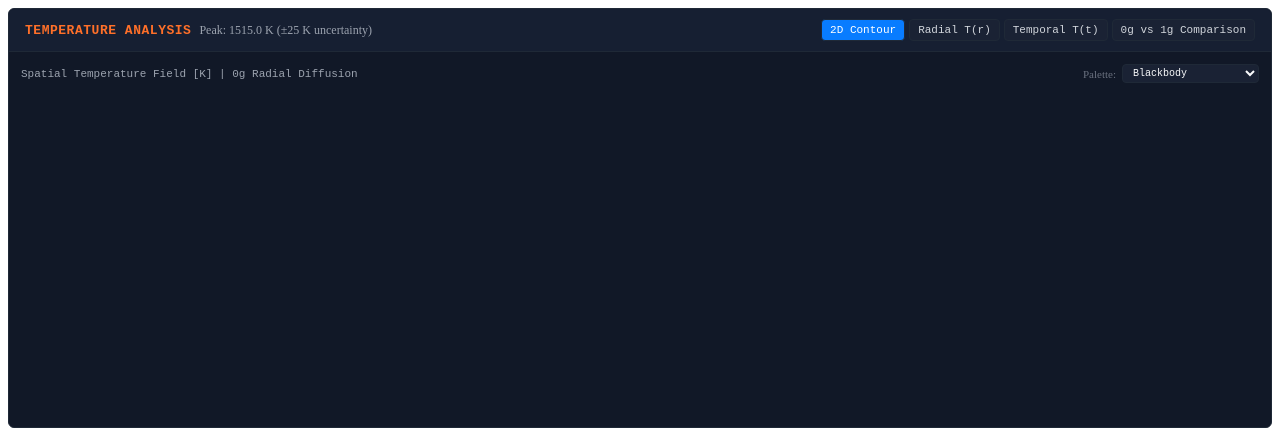
Test case: TemperatureDistributionChart Component › switches to 0g vs 1g Comparison tab and displays physics differences
This screenshot has width=1280, height=445.
What coordinates should you click on to do the following:
click the button "0g vs 1g Comparison"
I would click on:
 (1183, 30)
Its box is left=1112, top=19, right=1255, bottom=41.
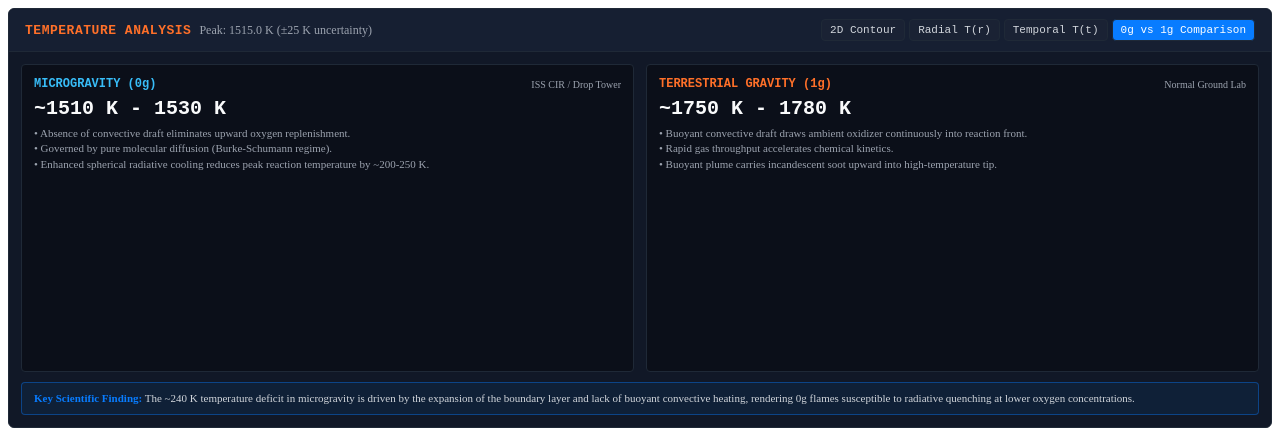
Result: the text "MICROGRAVITY (0g)" is shown at left=34, top=77, right=156, bottom=91
Result: the text "TERRESTRIAL GRAVITY (1g)" is shown at left=659, top=77, right=832, bottom=91
Result: the text "Key Scientific Finding:" is shown at left=34, top=392, right=142, bottom=404
